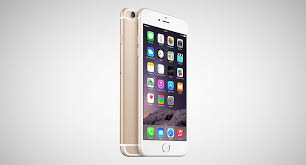iphone6: (115, 6, 191, 159), (133, 6, 190, 158)
